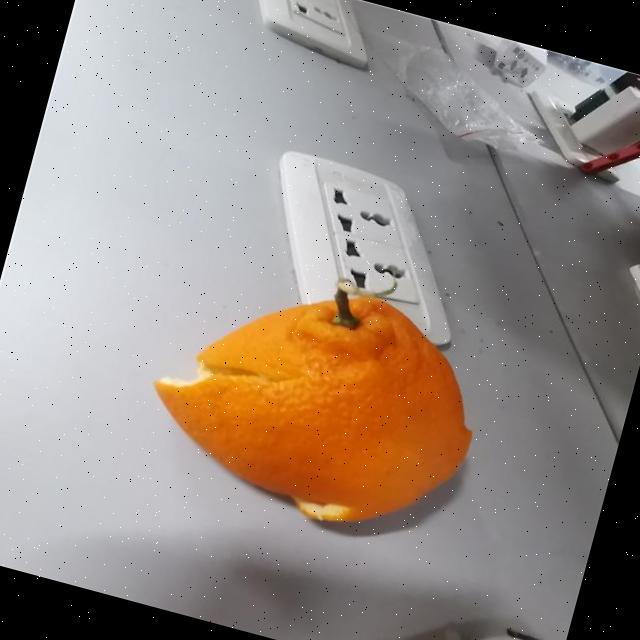orange-peel: (129, 244, 502, 556)
